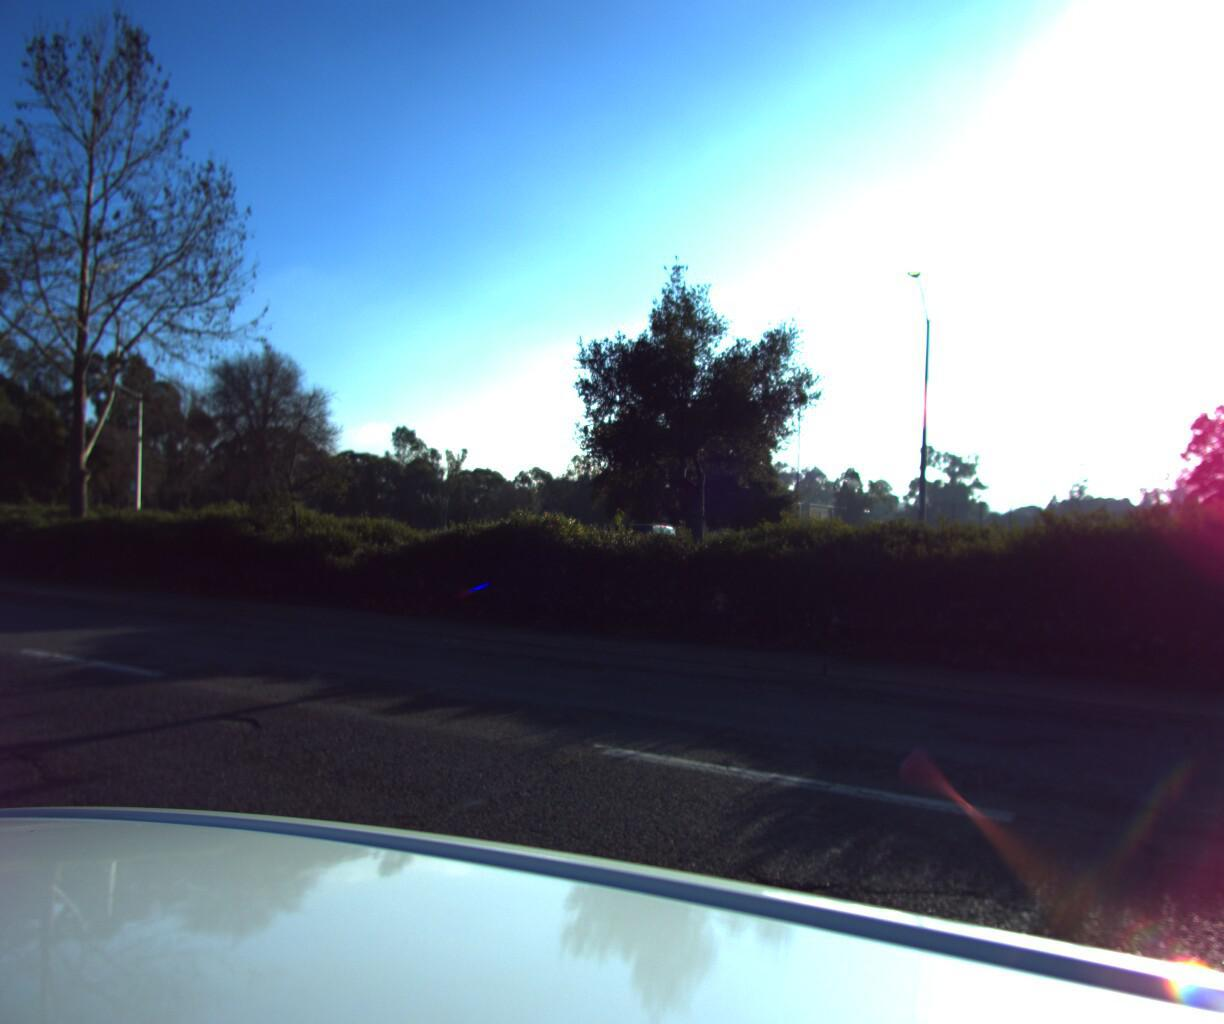car: (582, 515, 747, 578)
